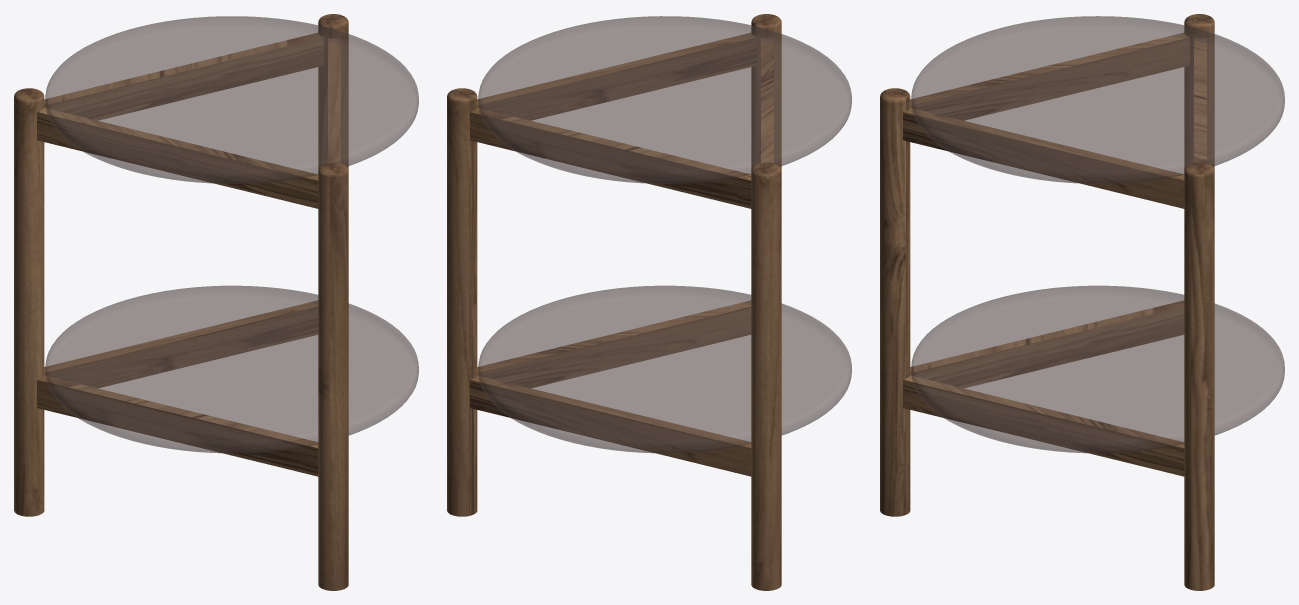
The model's file is ada-None.glb.
3 renders of one model, left to right at view 1: azimuth 30°, elevation 25°; view 2: azimuth 150°, elevation 25°; view 3: azimuth 270°, elevation 25°, orthographic.
Parts seen in each view (by area): view 1: table; view 2: table; view 3: table.
Part boxes in pixels (x1,y1,x2,y2): table: [14, 14, 418, 590]; table: [447, 14, 851, 590]; table: [880, 14, 1284, 590].
Bounding box in the file's own units: 0.4395 × 0.5297 × 0.4662.
Materials: 2 (1 with a texture image).
